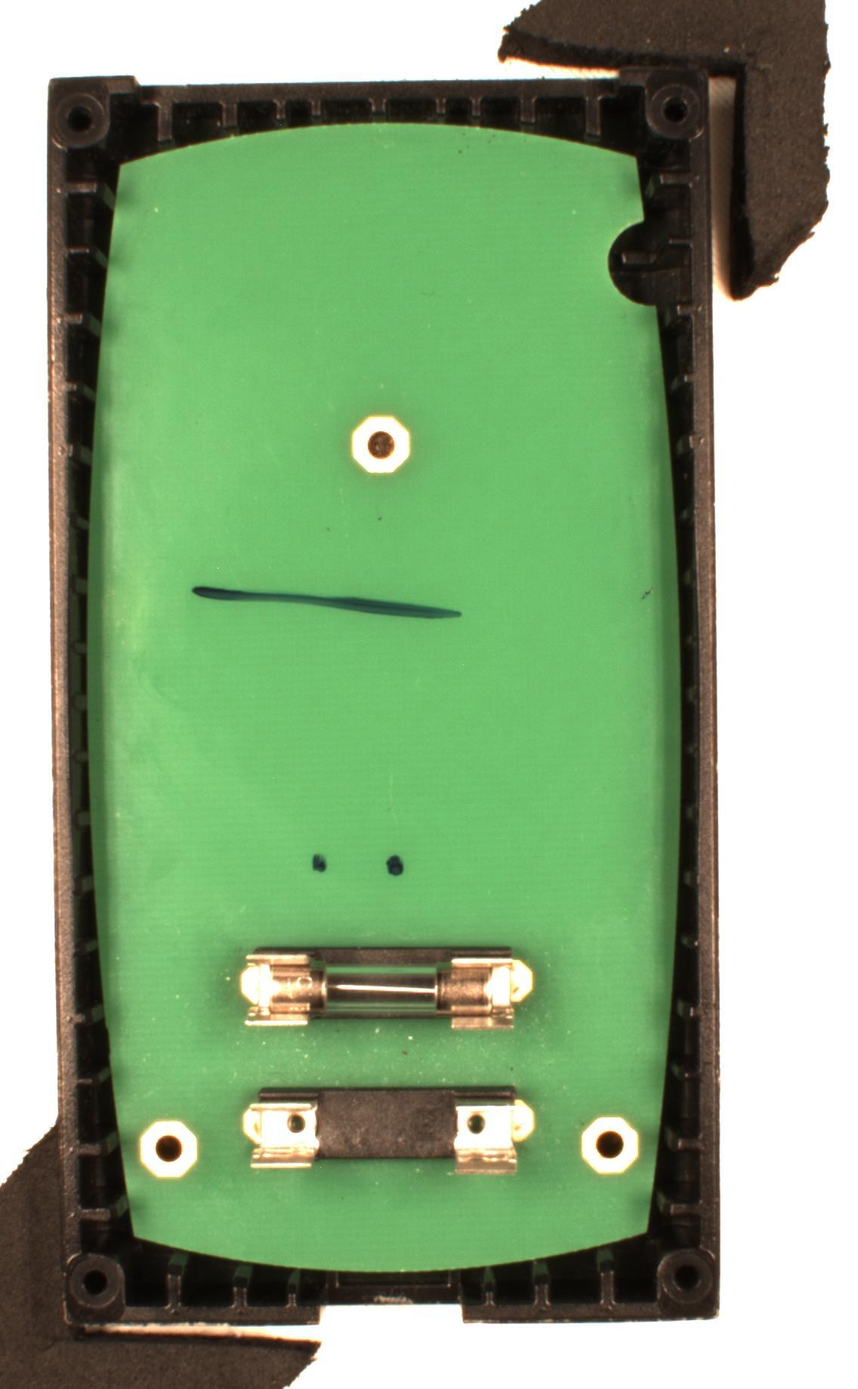Linijsko Ostecene: (188, 583, 466, 628)
Nepostojanje osiguraca: (242, 1083, 537, 1178)
Tockasto Ostecenje: (305, 847, 334, 879), (383, 850, 407, 880)
